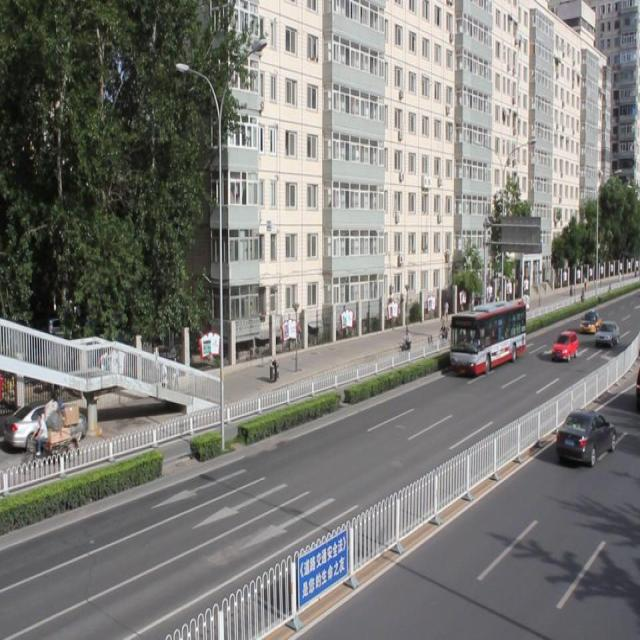car: (555, 405, 615, 465)
van: (450, 298, 525, 372)
